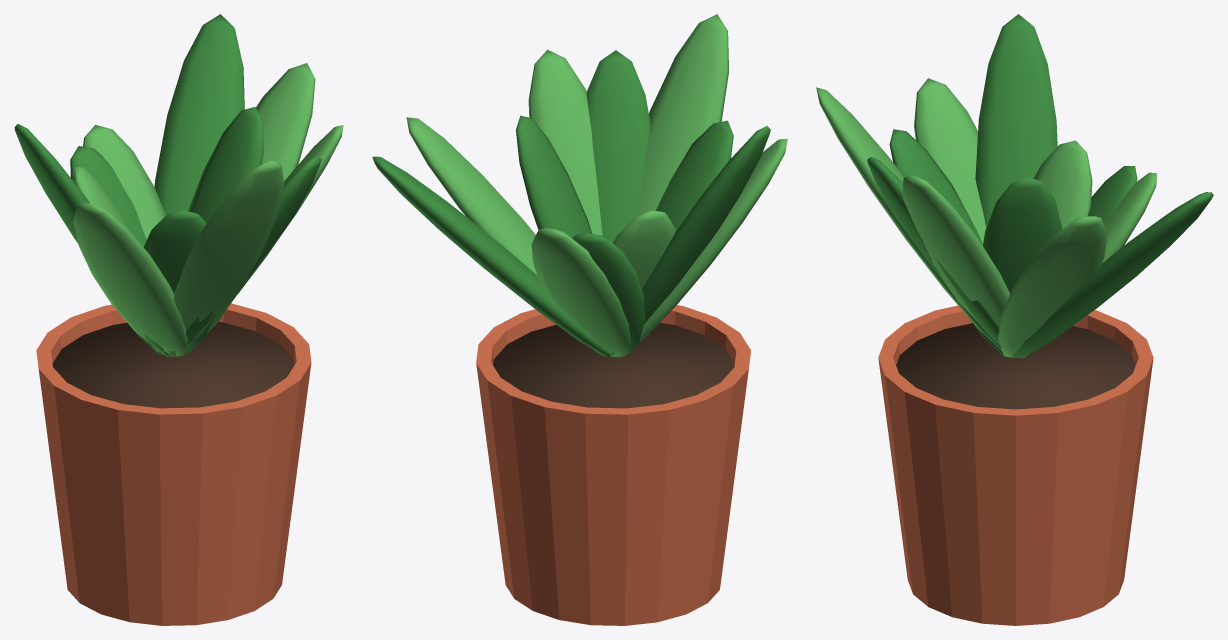
The model's file is BigPlant.fbx.
3 renders of one model, left to right at view 1: azimuth 30°, elevation 25°; view 2: azimuth 150°, elevation 25°; view 3: azimuth 270°, elevation 25°, orthographic.
Visible parts, largest first — view 1: BigPlantBody; view 2: BigPlantBody; view 3: BigPlantBody.
Boxes of the visible parts, bbox=[...] form: BigPlantBody: bbox=[14, 14, 343, 625]; BigPlantBody: bbox=[372, 14, 787, 625]; BigPlantBody: bbox=[816, 14, 1213, 625].
Bounding box in the file's own units: 0.7599 × 1.1 × 0.8092.
